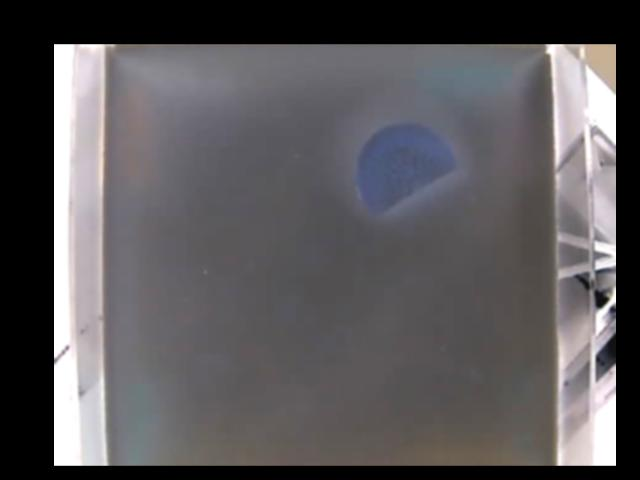Mooli: (356, 124, 459, 213)
